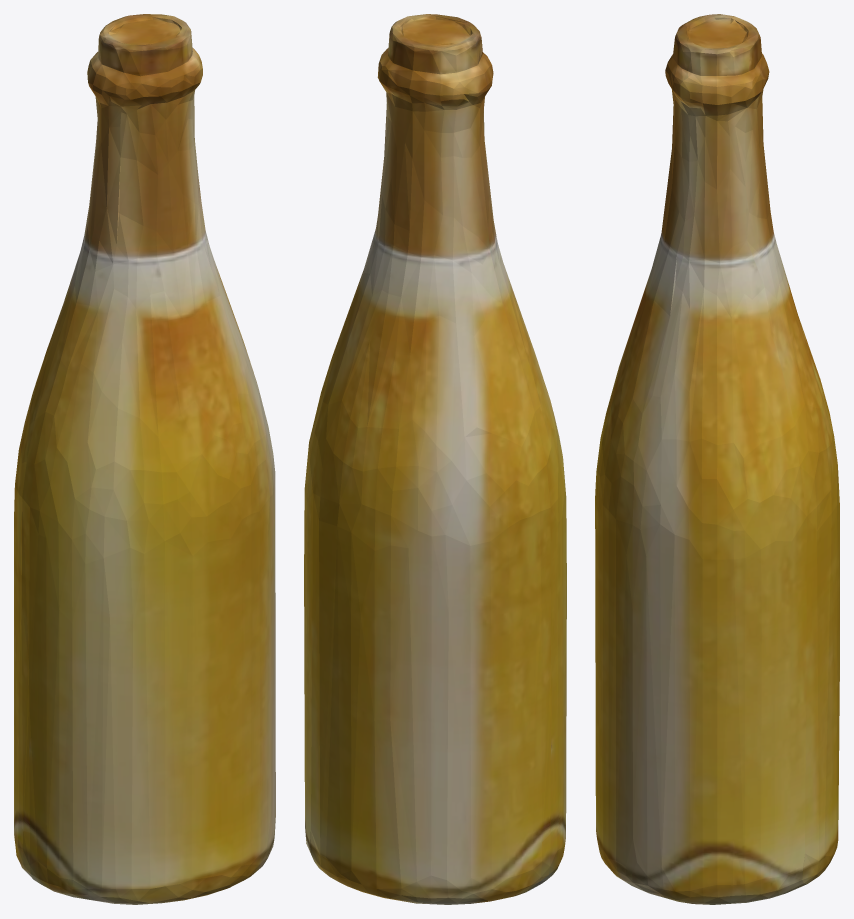
The model's file is p_bottle.glb.
3 renders of one model, left to right at view 1: azimuth 30°, elevation 25°; view 2: azimuth 150°, elevation 25°; view 3: azimuth 270°, elevation 25°, orthographic.
Visible parts, largest first — view 1: geometry_0; view 2: geometry_0; view 3: geometry_0.
Boxes of the visible parts, bbox=[...] form: geometry_0: bbox=[14, 14, 275, 904]; geometry_0: bbox=[304, 14, 566, 904]; geometry_0: bbox=[595, 14, 839, 904].
Size of the model in its own units: 0.2933 by 0.999 by 0.2694.
1 material, 1 textured.
